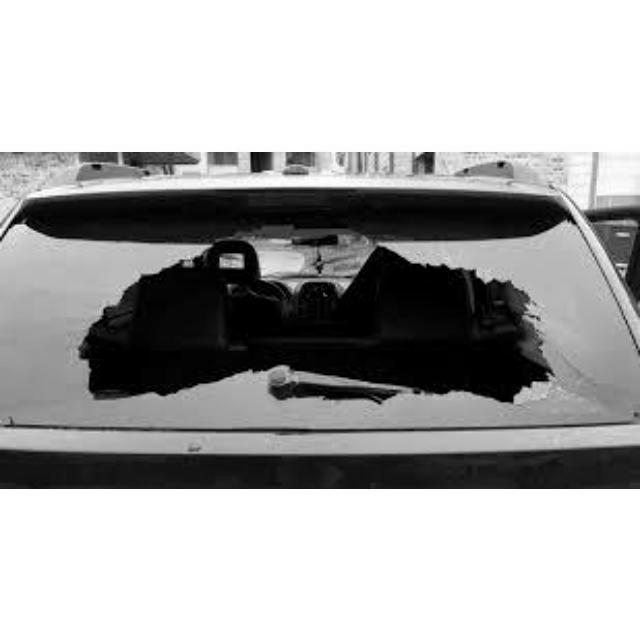Rear-windscreen-Damage: (0, 174, 600, 478)
